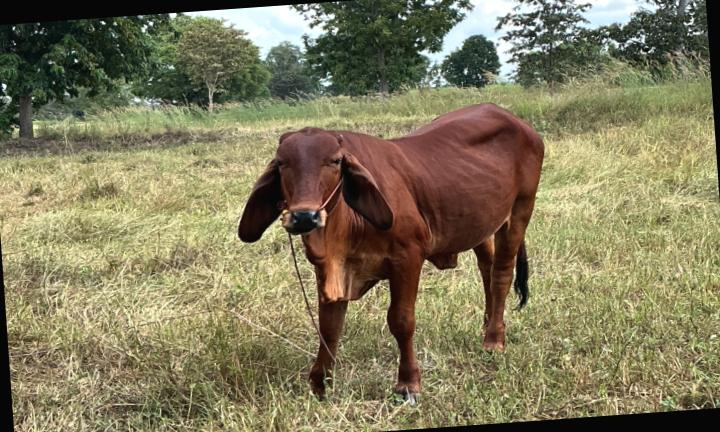Brahman: (239, 102, 544, 402)
